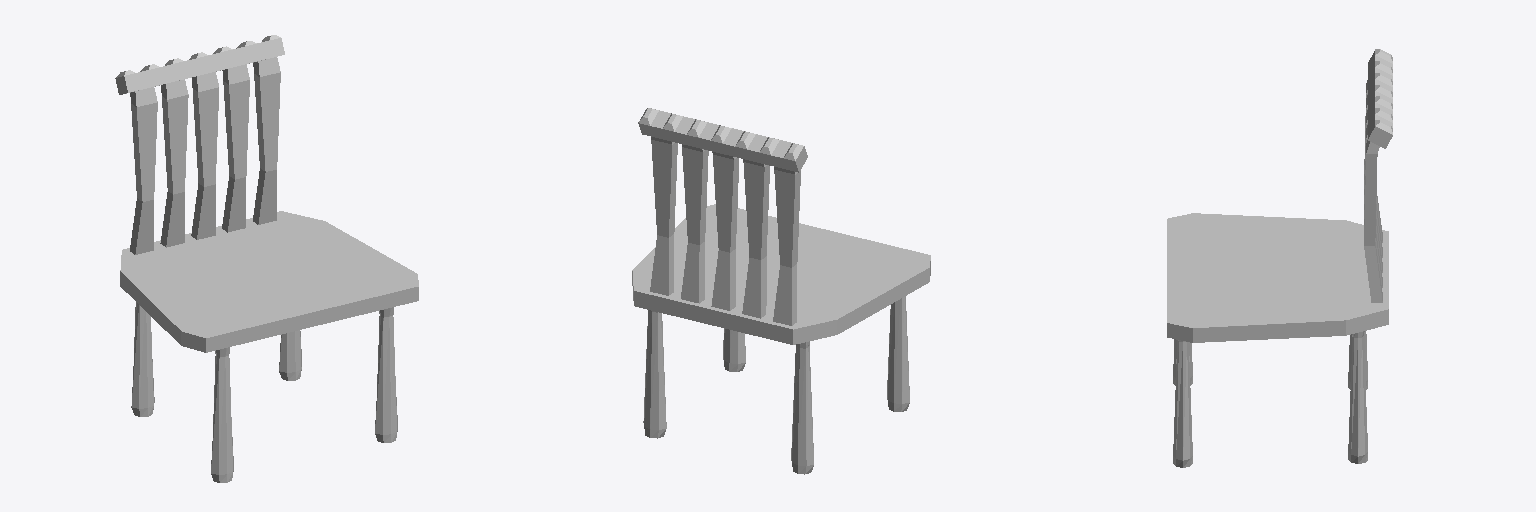
Rendered from Chair_Mesh_Export_File.obj.
3 renders of one model, left to right at view 1: azimuth 30°, elevation 25°; view 2: azimuth 150°, elevation 25°; view 3: azimuth 270°, elevation 25°, orthographic.
Parts seen in each view (by area): view 1: ChairseatShape; view 2: ChairseatShape; view 3: ChairseatShape.
Part boxes in pixels (left/top/right/bottom): ChairseatShape: left=115, top=35, right=418, bottom=482; ChairseatShape: left=632, top=108, right=930, bottom=474; ChairseatShape: left=1167, top=49, right=1392, bottom=467.
Bounding box in the file's own units: 175 × 238 × 146.